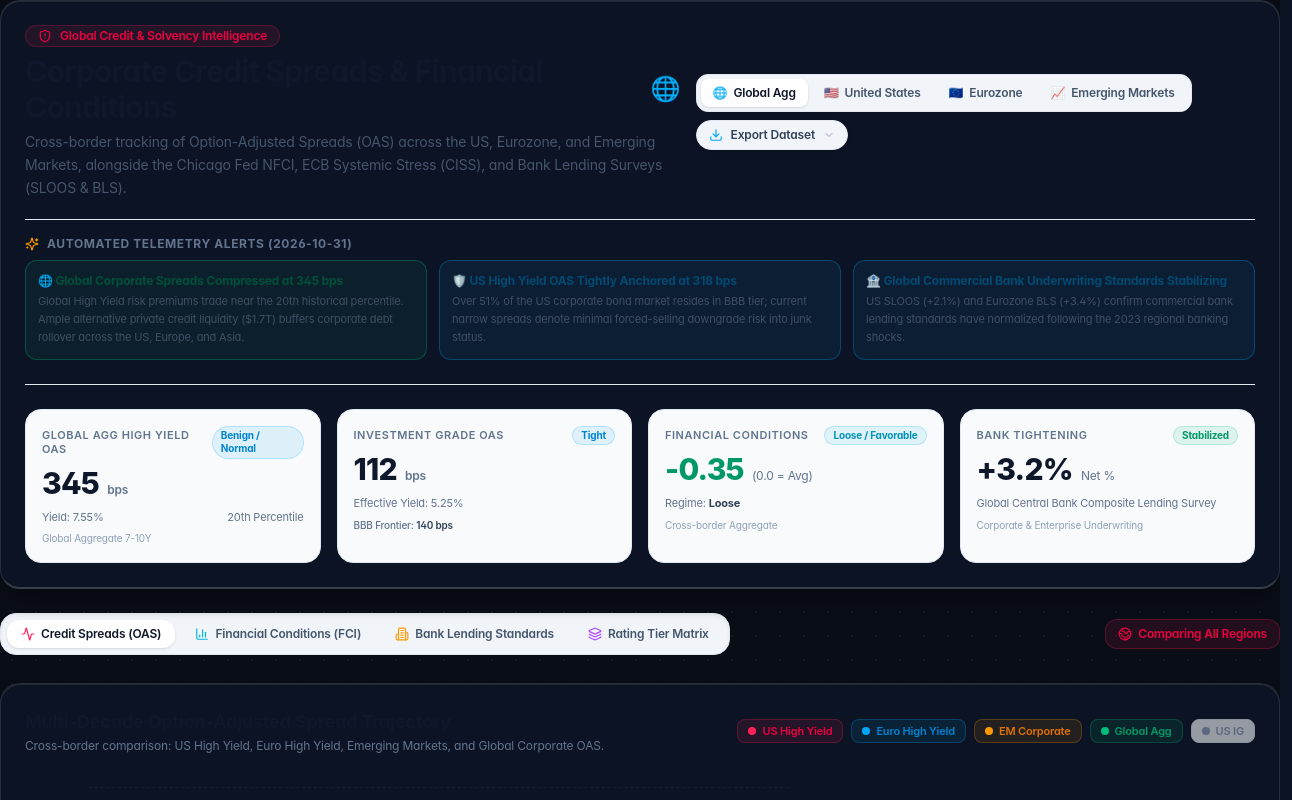
Test: CreditMarketRadar Component › allows toggling between multi-region comparison and single-region focus in OAS view
This screenshot has width=1292, height=800.
Click the button "Comparing All Regions". click: click(1193, 634)
box: [1105,619,1280,649]
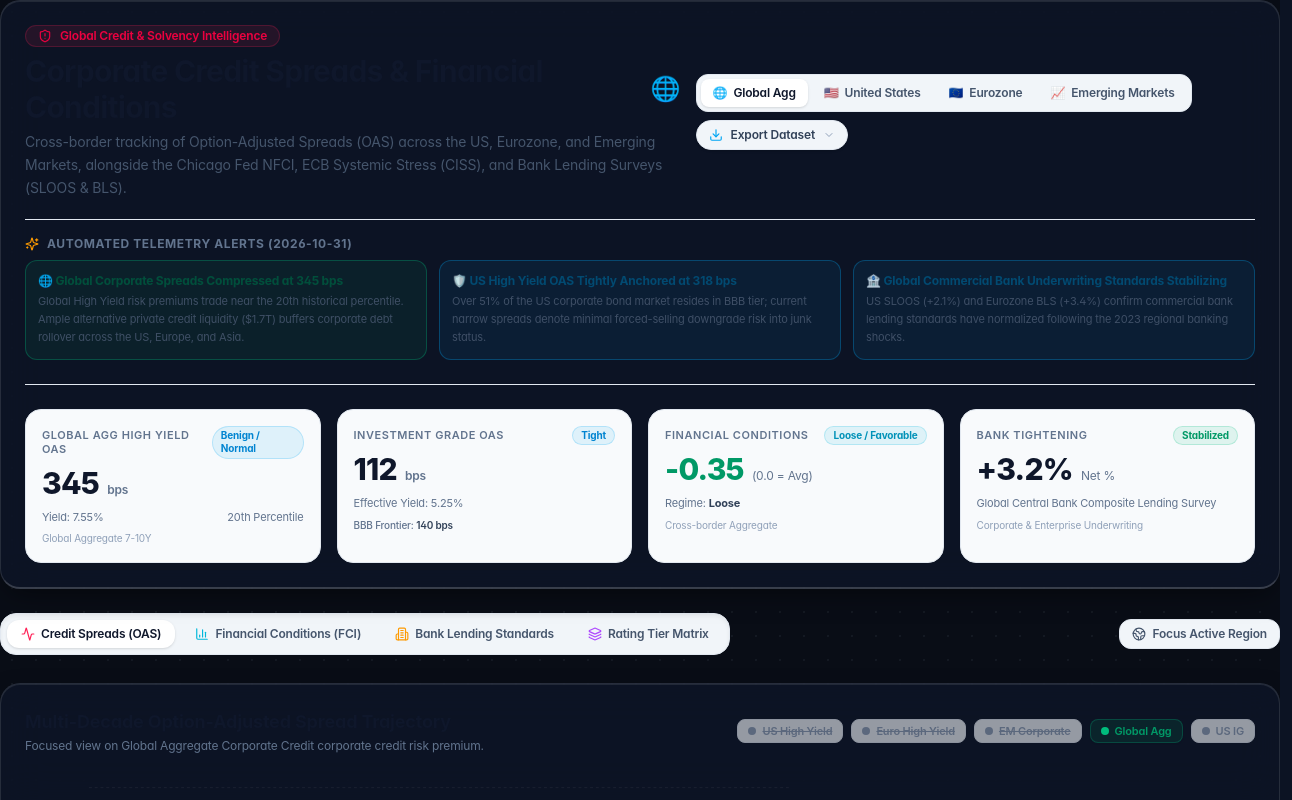
Check: the button "Focus Active Region" is shown, box [1120,619,1280,649]
